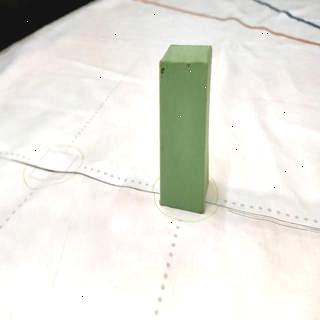greenbox: (153, 42, 213, 216)
